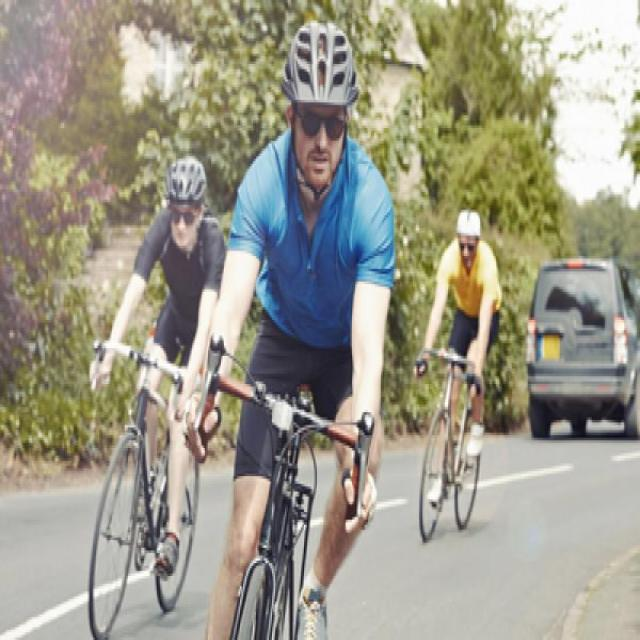Helmet: (277, 27, 366, 193), (167, 152, 216, 258)
